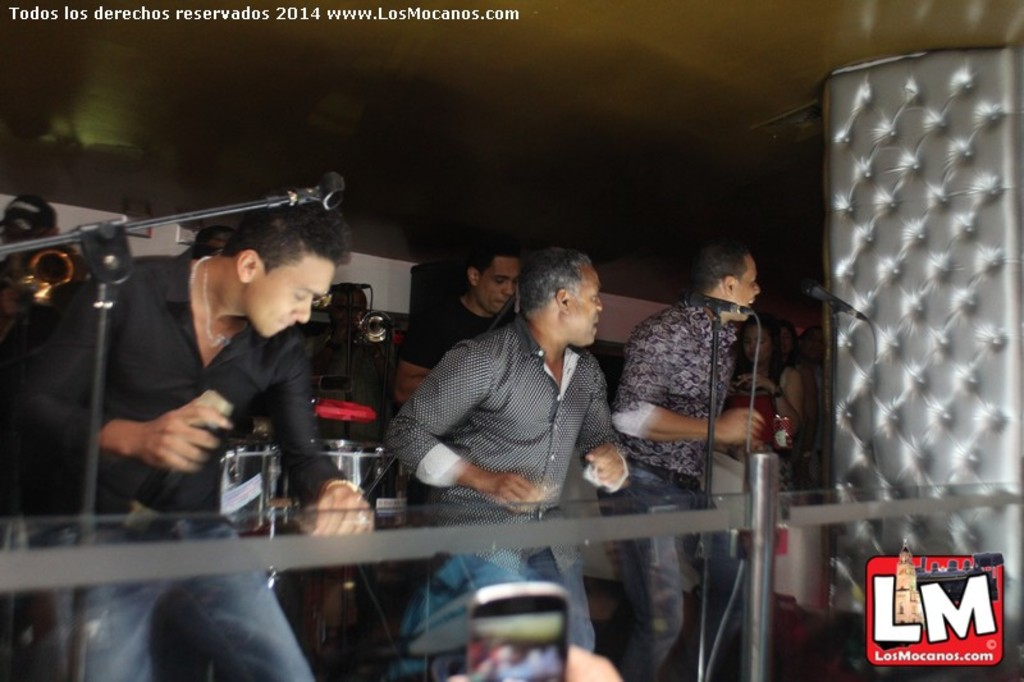Human_hand: (108, 393, 219, 481), (443, 642, 626, 681), (585, 444, 631, 490), (314, 481, 378, 511), (714, 408, 764, 440), (488, 475, 541, 505), (735, 371, 778, 392)
